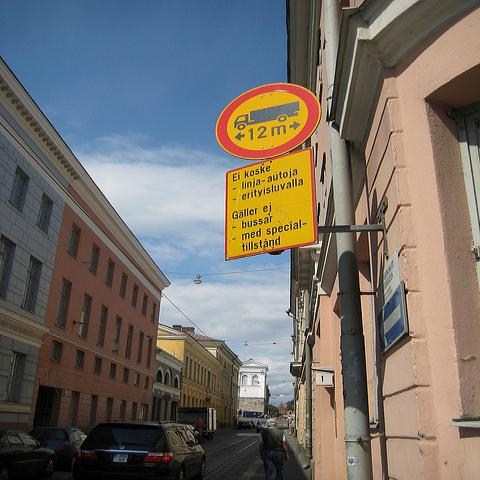car: (78, 419, 204, 477), (27, 425, 90, 472), (0, 429, 58, 479), (236, 420, 253, 430)
truck: (174, 407, 218, 444)
